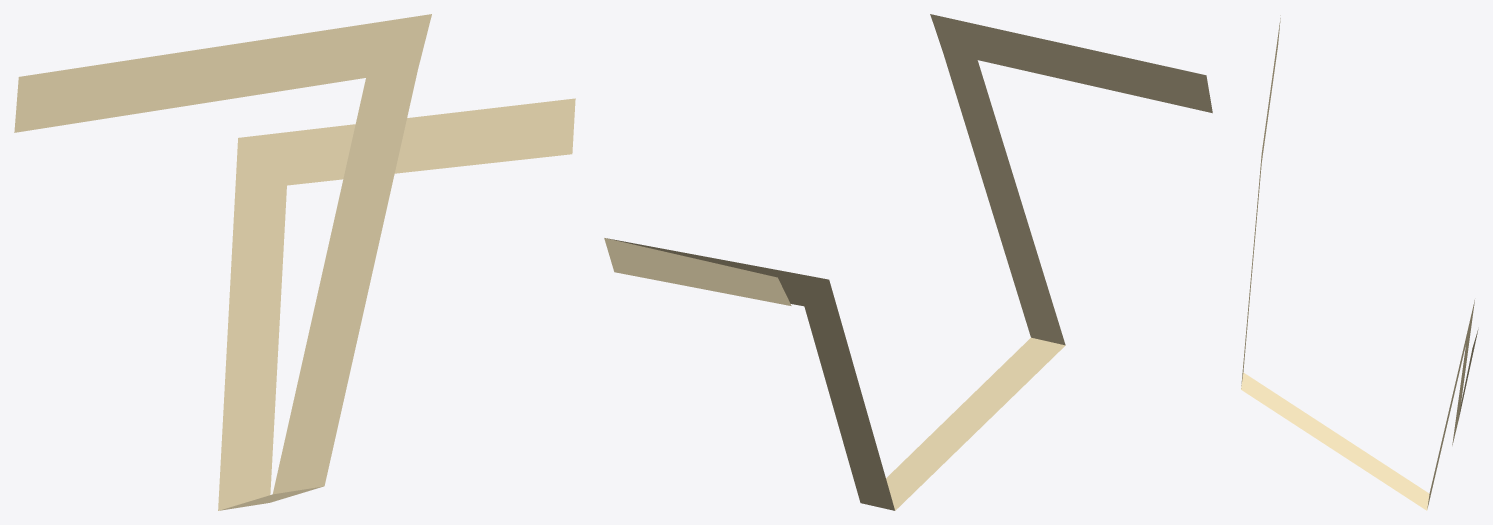
File: pbp_paper01anim04.glb
The picture shows the model from 3 angles, left to right: view 1: azimuth 30°, elevation 25°; view 2: azimuth 150°, elevation 25°; view 3: azimuth 270°, elevation 25°; orthographic projection. The views are drawn at different scales.
Parts seen in each view (by area): view 1: paper01anim04; view 2: paper01anim04; view 3: paper01anim04.
Boxes of the visible parts, x1,y1,x2,y2 form: paper01anim04: (14,14,575,510); paper01anim04: (604,14,1212,510); paper01anim04: (1241,15,1478,510).
Size of the model in its own units: 1.7 by 1.38 by 0.7781.
